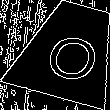O_N: (36, 20, 102, 82)
